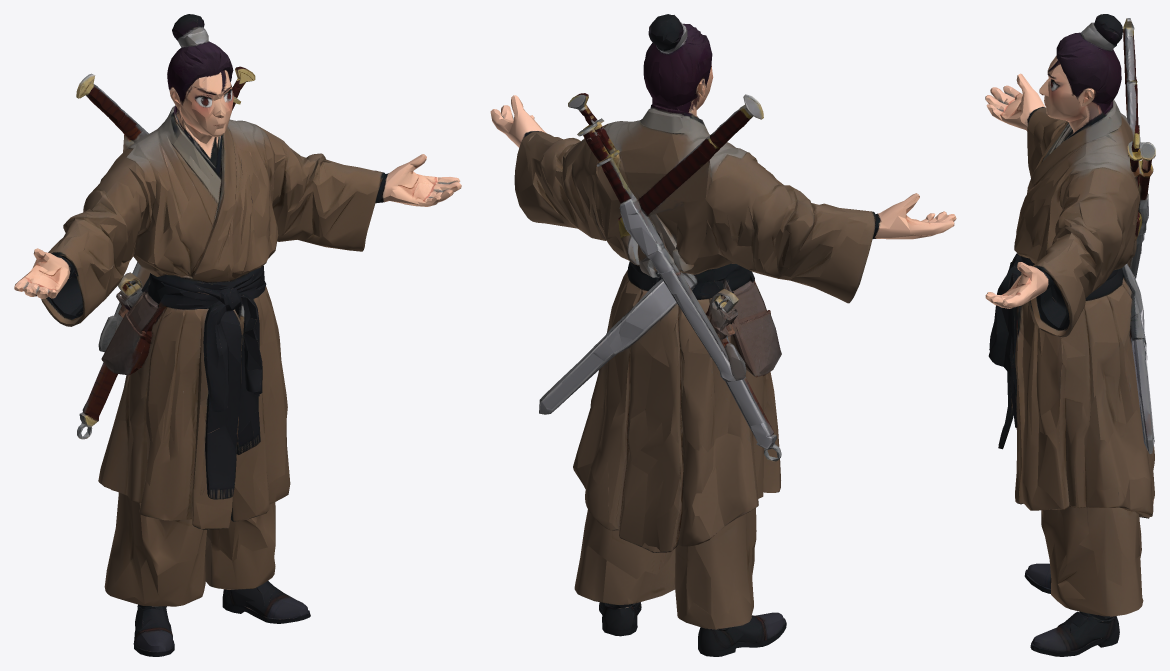
The model's file is doho_textured_static.glb.
3 renders of one model, left to right at view 1: azimuth 30°, elevation 25°; view 2: azimuth 150°, elevation 25°; view 3: azimuth 270°, elevation 25°, orthographic. The views are drawn at different scales.
Bounding box in the file's own units: 1.47 × 1.9 × 0.4893.
1 material, 1 textured.
